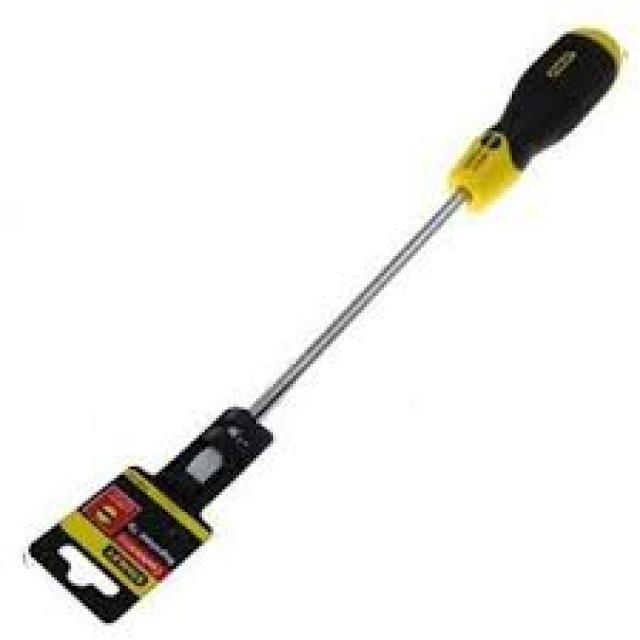screwdriver: (168, 24, 623, 508)
